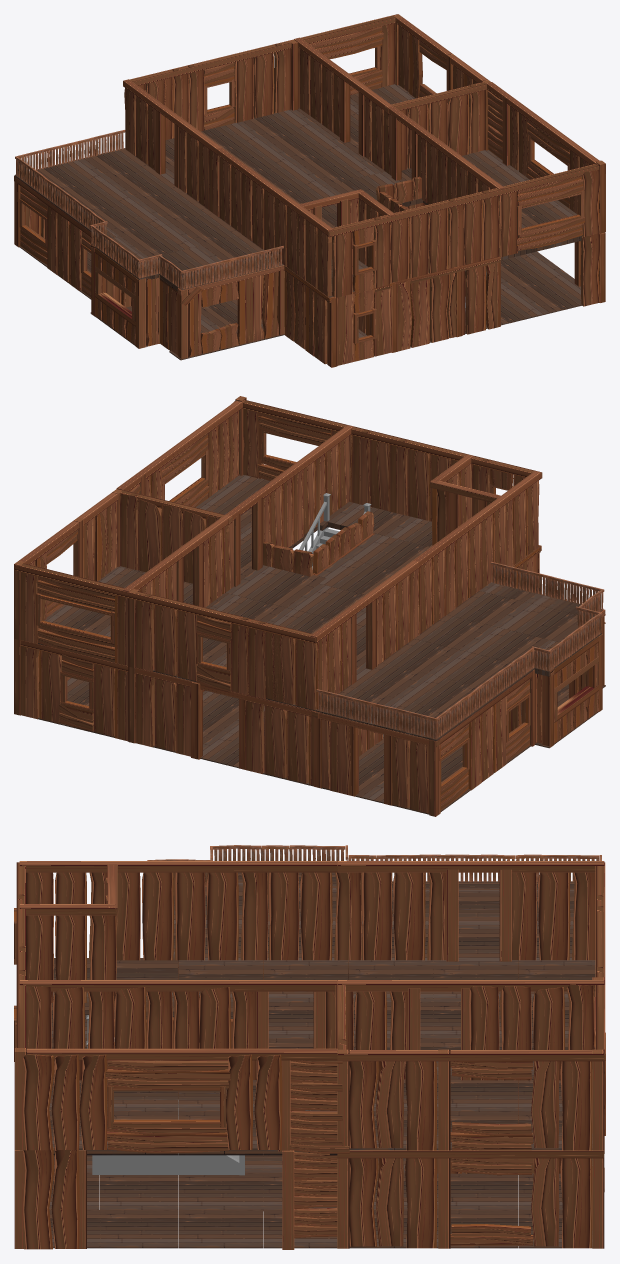
Rendered from Cabaña2.FBX.
The picture shows the model from 3 angles, top to bottom: view 1: azimuth 30°, elevation 25°; view 2: azimuth 150°, elevation 25°; view 3: azimuth 270°, elevation 25°; orthographic projection. The views are drawn at different scales.
Parts seen in each view (by area): view 1: Cuarto1, floor_3x3m001, Object017, Object009, Object013, Box016, floor_3x3m, Object003, Object035, Object016, Object005, Object001 (+19 smaller); view 2: Cuarto1, floor_3x3m001, Object017, Object009, Box016, Object013, Object001, floor_3x3m, Object005, Object003, Object035, Object016 (+17 smaller); view 3: Cuarto1, Object009, floor_3x3m001, Object017, floor_3x3m, Object016, Object005, Object008, Object011, Object015, Ventana7, Object036 (+11 smaller).
Part boxes in pixels (x1,y1,x2,y2): Cuarto1: (14,37,605,367); floor_3x3m001: (14,84,581,297); Object017: (123,14,599,237); Object009: (125,88,297,274); Object013: (390,190,499,282); Box016: (16,133,281,289); floor_3x3m: (19,246,582,360); Object003: (386,83,485,170); Object035: (233,43,291,122); Object016: (510,106,605,236); Object005: (417,135,491,204); Object001: (124,64,204,147); Cuarto1: (14,400,605,816); floor_3x3m001: (38,475,603,741); Object017: (14,400,542,667); Object009: (316,504,506,709); Box016: (318,565,603,738); Object013: (350,429,471,521); Object001: (230,617,317,709); floor_3x3m: (38,678,605,814); Object005: (262,436,349,564); Object003: (119,493,229,583); Object035: (135,593,197,681); Object016: (146,396,263,509); Cuarto1: (14,861,605,1249); Object009: (116,872,595,961); floor_3x3m001: (20,872,595,1155); Object017: (16,862,605,1153); floor_3x3m: (49,1150,592,1248); Object016: (14,1043,282,1150); Object005: (26,986,256,1080); Object008: (467,984,593,1081); Object011: (26,915,116,1002); Object015: (326,991,407,1079); Ventana7: (450,1158,533,1245); Object036: (92,1153,238,1174).
Size of the model in its own units: 893 by 295 by 802.
